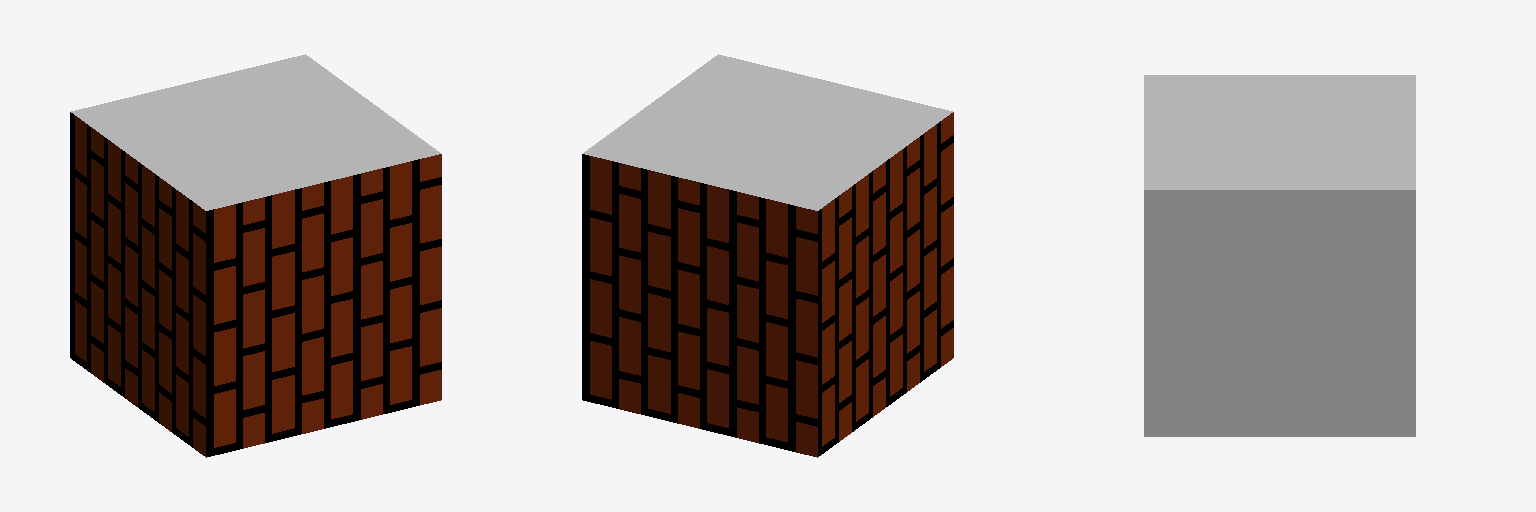
The picture shows the model from 3 angles: view 1: azimuth 30°, elevation 25°; view 2: azimuth 150°, elevation 25°; view 3: azimuth 270°, elevation 25°; orthographic projection.
Bounding box in the file's own units: 2 × 2 × 2.
2 materials, 1 textured.